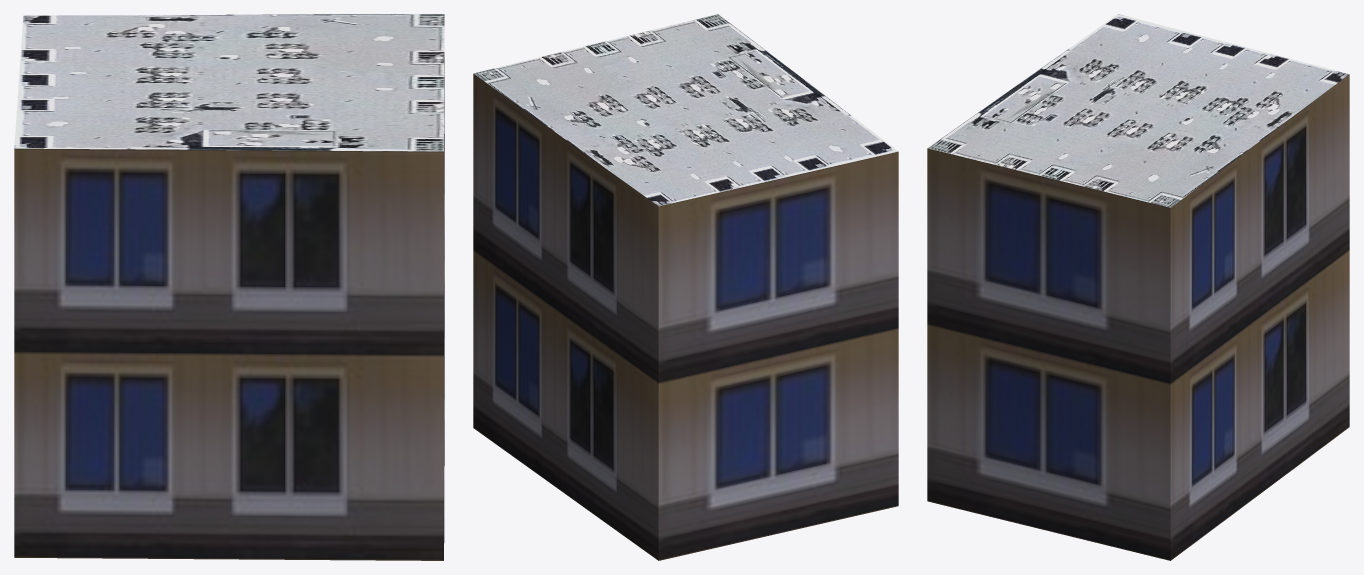
The model's file is ResTex__4554.fbx.
3 renders of one model, left to right at view 1: azimuth 30°, elevation 25°; view 2: azimuth 150°, elevation 25°; view 3: azimuth 270°, elevation 25°, orthographic. The views are drawn at different scales.
Parts seen in each view (by area): view 1: CityEngineMaterial_5_m, CityEngineMaterial_4_m; view 2: CityEngineMaterial_5_m, CityEngineMaterial_4_m; view 3: CityEngineMaterial_5_m, CityEngineMaterial_4_m.
Part boxes in pixels (box(x1,y1,x2,y2)): CityEngineMaterial_5_m: box(14, 57, 444, 560); CityEngineMaterial_4_m: box(14, 14, 444, 151); CityEngineMaterial_5_m: box(473, 74, 898, 560); CityEngineMaterial_4_m: box(473, 14, 898, 206); CityEngineMaterial_5_m: box(927, 74, 1349, 560); CityEngineMaterial_4_m: box(928, 14, 1349, 207).
Bounding box in the file's own units: 7.07 × 6 × 6.5.
Materials: 2 (2 with a texture image).
